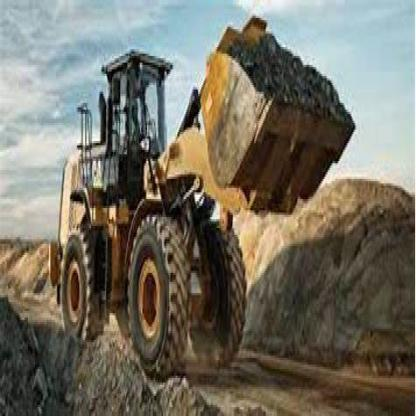bull_dozer/loader/grader: (49, 11, 354, 383)
